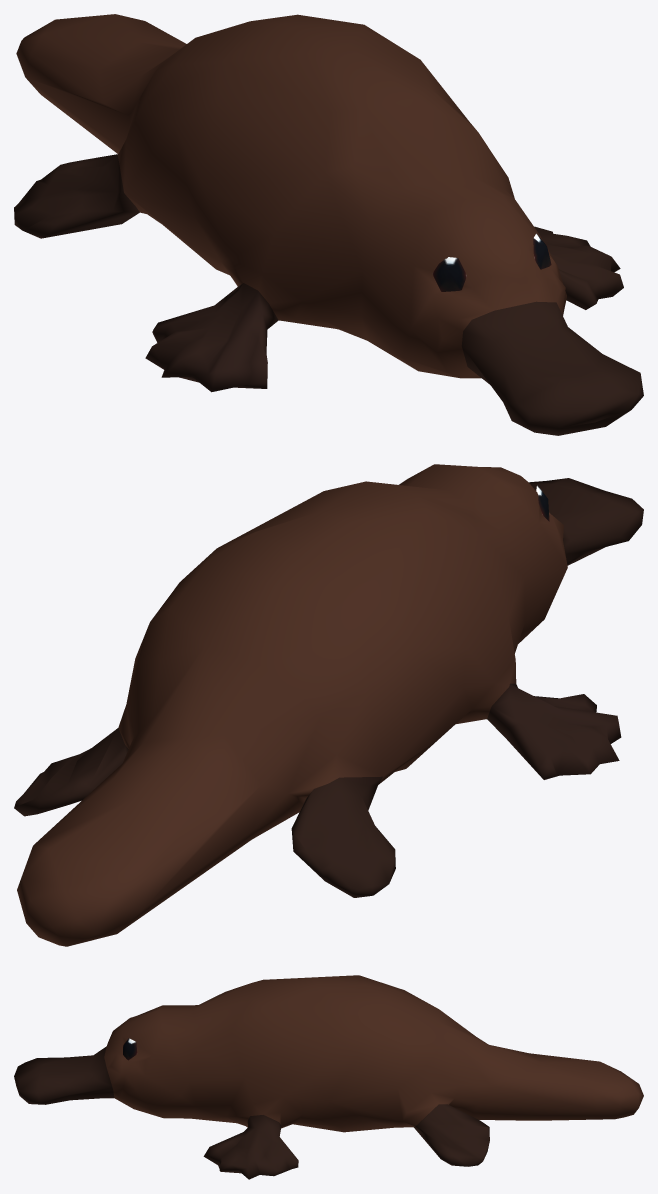
The model's file is Platapus.glb.
3 renders of one model, top to bottom at view 1: azimuth 30°, elevation 25°; view 2: azimuth 150°, elevation 25°; view 3: azimuth 270°, elevation 25°, orthographic. The views are drawn at different scales.
Visible parts, largest first — view 1: Platapus; view 2: Platapus; view 3: Platapus.
Part boxes in pixels (x1,y1,x2,y2): Platapus: [14, 14, 643, 435]; Platapus: [14, 464, 643, 946]; Platapus: [14, 975, 643, 1179].
Size of what is drawn, in the model's own units: 0.7201 by 0.3586 by 1.5.
1 material, 1 textured.
